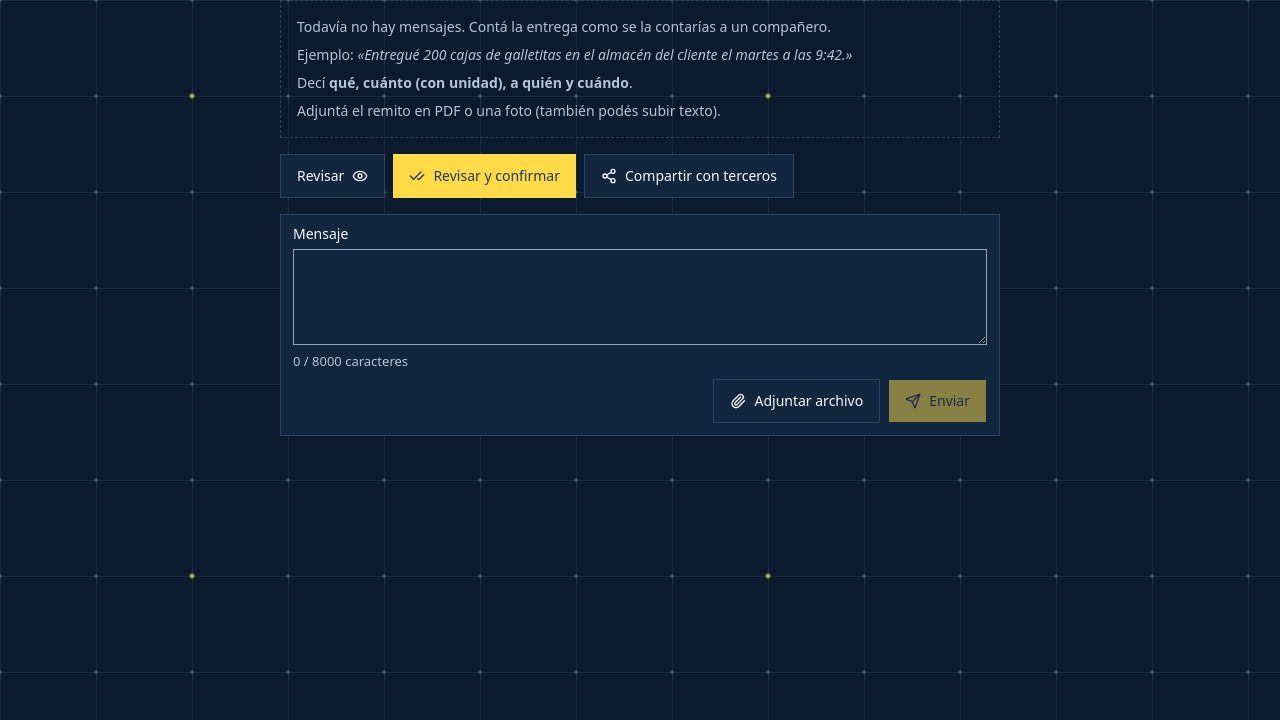
Test case: ChatContainer (MVP-054; red simulada, no es integración real) › muestra el draft, el mensaje del agente y avisos no bloqueantes; sin ceros inventados en replay
The image size is (1280, 720).
Type "Entregué 3 cajas" into the text box labelled "Mensaje" at (640, 297), box [293,249,987,345]
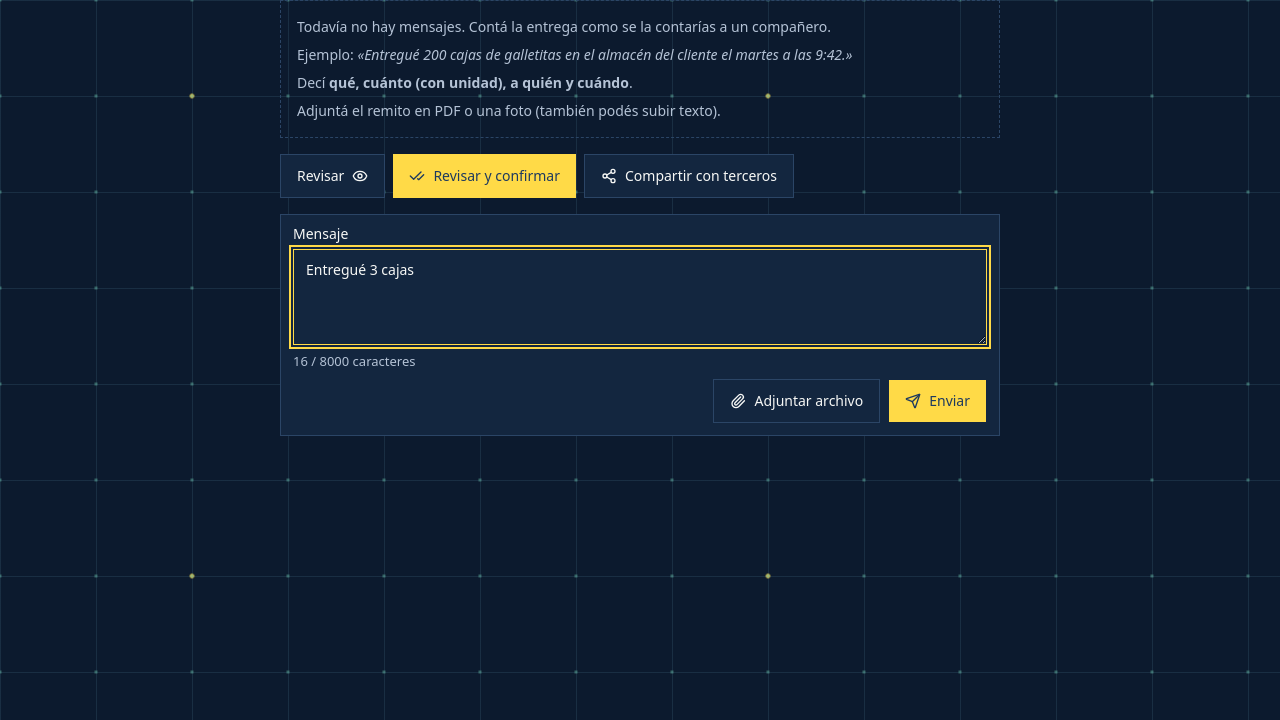
Click the button "Enviar" at (938, 401), box [888,379,987,423]
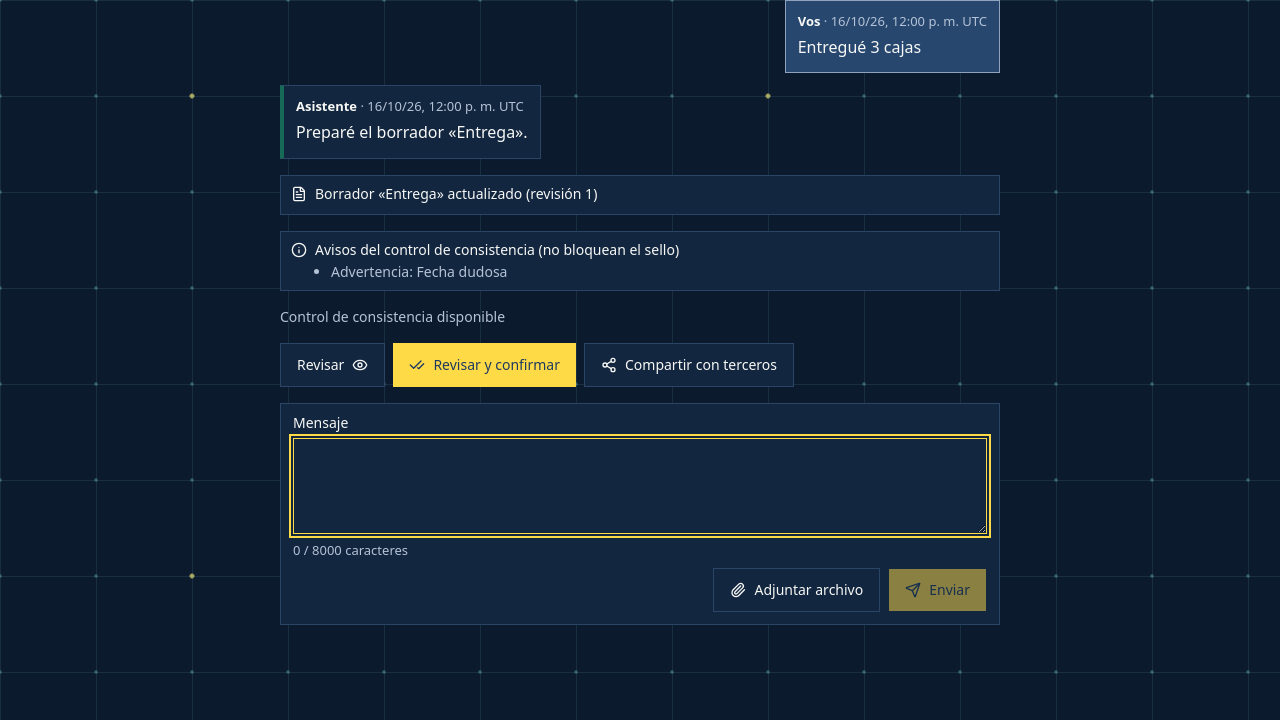
Expected: the text "Borrador «Entrega» actualizado (revisión 1)" is shown, [315,184,597,203]
Expected: the list item "Advertencia: Fecha dudosa" is shown, [331,262,508,281]
Expected: the text "Preparé el borrador «Entrega»." is shown, [296,120,528,146]
